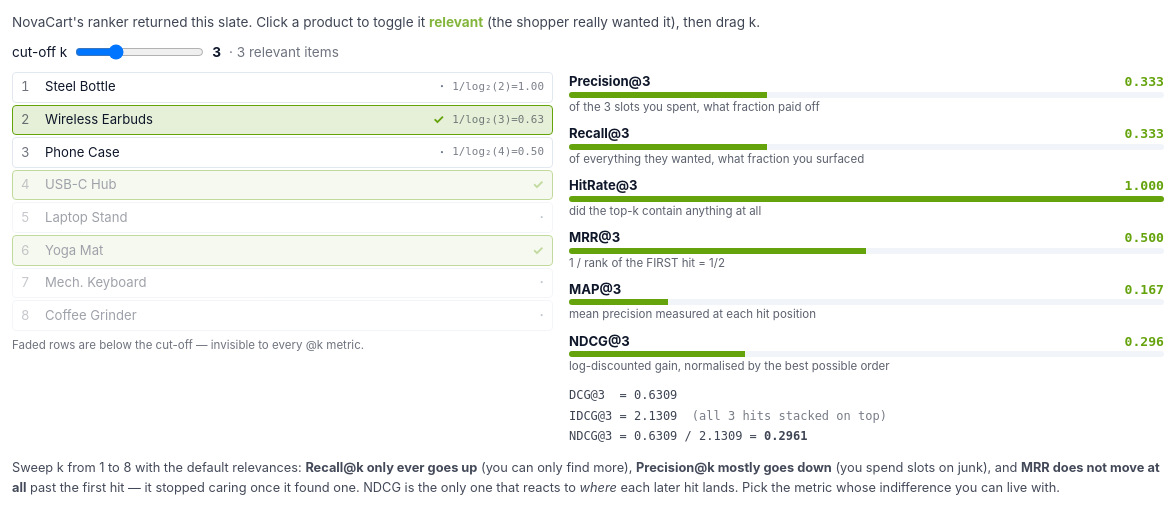
Scenario: recsys widgets respond to input › RankingMetricsWidget recomputes when k changes
The image size is (1176, 512).
Expected: the text "Precision@3" is shown, x1=569 y1=72 x2=650 y2=92
Set the slider labelled "cut-off k 3 · 3 relevant items" to "5" at x=148, y=52, box x1=75 y1=44 x2=204 y2=60
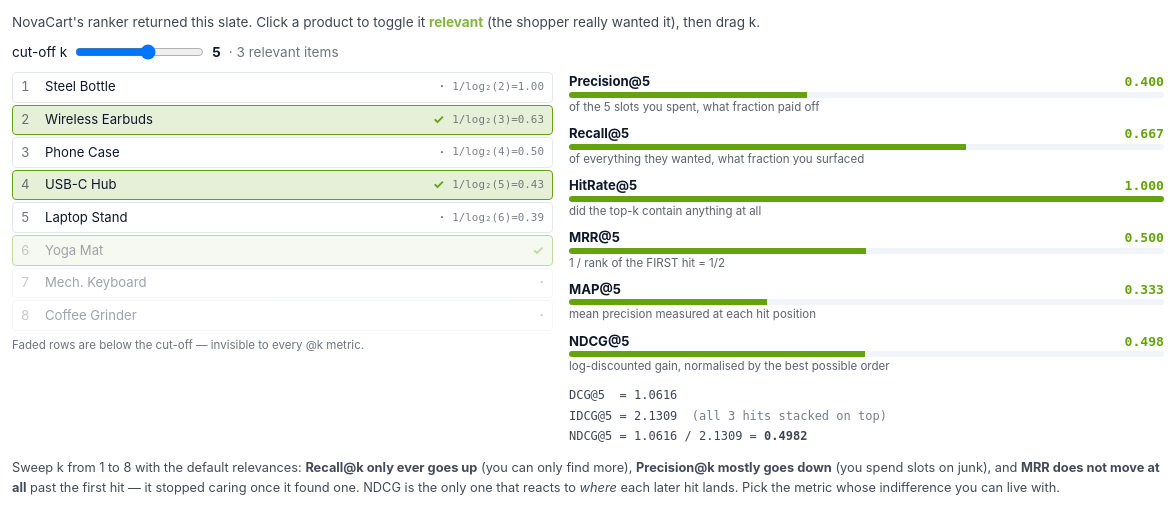
Expected: the text "Precision@5" is shown, x1=569 y1=72 x2=650 y2=92
